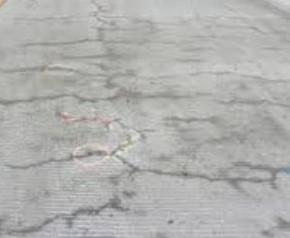alligator-crack: (8, 7, 290, 59), (5, 64, 289, 113)
crack: (1, 114, 290, 191), (10, 195, 125, 238)
